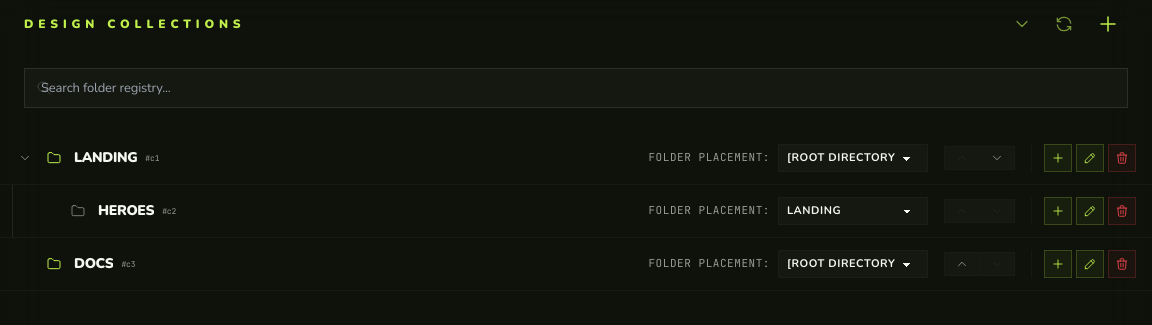
DesignLibrarySection › shows a rejected re-parent (cycle) and restores the list from storage
This screenshot has width=1152, height=325.
expect the text "Landing" is shown: met, box left=74, top=148, right=137, bottom=168
Select "DOCS" in the dropdown titled "Move folder to another placement in tree" in the row of "c1" at (853, 158), box left=778, top=144, right=928, bottom=172
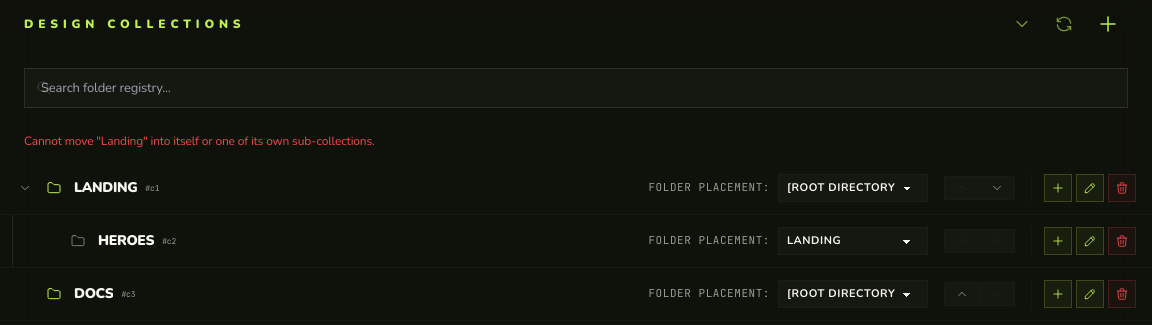
expect the message shows "into itself": met, box left=24, top=133, right=375, bottom=149
